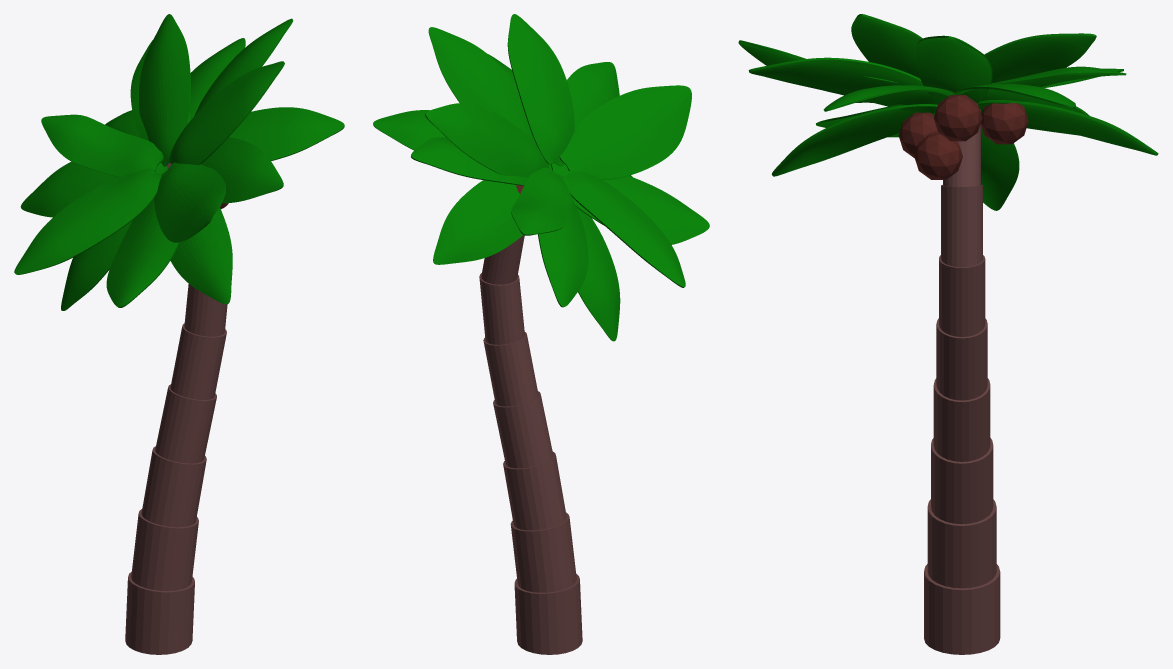
File: palm_5.fbx
3 renders of one model, left to right at view 1: azimuth 30°, elevation 25°; view 2: azimuth 150°, elevation 25°; view 3: azimuth 270°, elevation 25°, orthographic. The views are drawn at different scales.
Visible parts, largest first — view 1: Plane, Cylinder; view 2: Plane, Cylinder; view 3: Plane, Cylinder, Icosphere, Icosphere.003, Icosphere.002, Icosphere.001.
Boxes of the visible parts, <box> form: Plane: <box>14,14,344,310</box>; Cylinder: <box>125,163,227,654</box>; Plane: <box>373,14,709,341</box>; Cylinder: <box>479,235,582,654</box>; Plane: <box>738,14,1158,210</box>; Cylinder: <box>924,108,1000,654</box>; Icosphere: <box>933,95,982,141</box>; Icosphere.003: <box>914,133,962,179</box>; Icosphere.002: <box>981,103,1028,144</box>; Icosphere.001: <box>898,112,938,157</box>.
Bounding box in the file's own units: 942 × 1950 × 1103.
